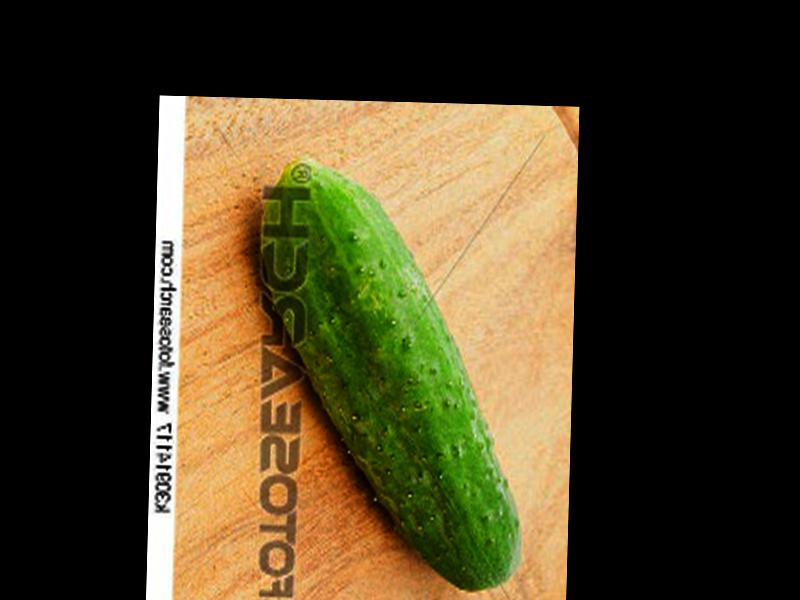Cucumber: (247, 157, 531, 593)
